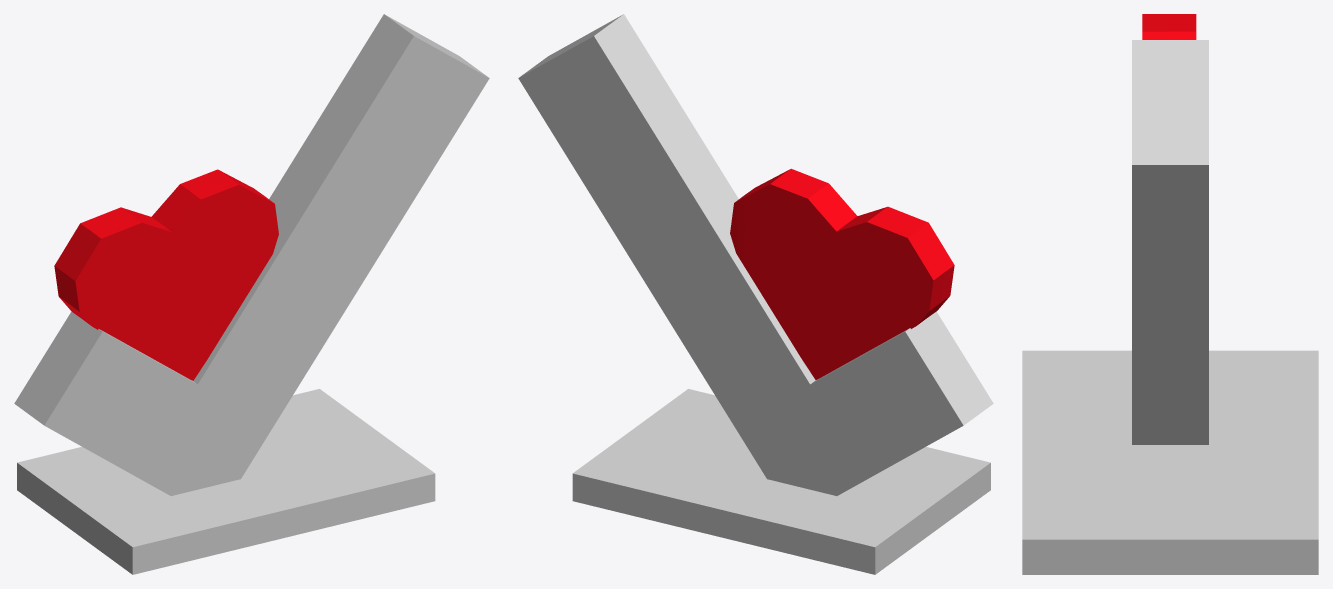
Rendered from sunflower.glb.
3 views of the same model, side by side, from view 1: azimuth 30°, elevation 25°; view 2: azimuth 150°, elevation 25°; view 3: azimuth 270°, elevation 25° (orthographic). The views are drawn at different scales.
Visible parts, largest first — view 1: Куб.001, Cube, Куб; view 2: Куб.001, Cube, Куб; view 3: Cube, Куб.001, Куб.
Boxes of the visible parts, <box> form: Куб.001: <box>14,14,489,495</box>; Cube: <box>17,389,435,574</box>; Куб: <box>54,169,278,380</box>; Куб.001: <box>518,14,993,495</box>; Cube: <box>572,389,990,574</box>; Куб: <box>730,168,954,379</box>; Cube: <box>1022,350,1318,574</box>; Куб.001: <box>1132,40,1208,444</box>; Куб: <box>1142,14,1196,39</box>.
Size of the model in its own units: 0.443 by 0.4072 by 0.1993.
Materials: 2 (1 with a texture image).
